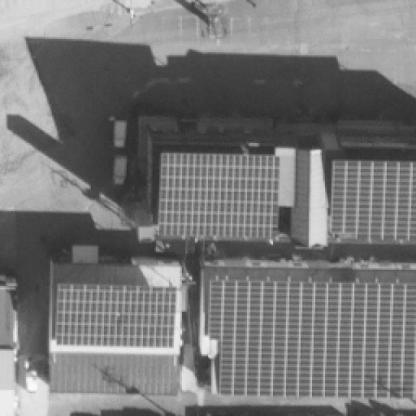solar-pv-panel: (209, 280, 416, 398), (155, 154, 279, 238), (55, 284, 177, 349), (331, 160, 416, 241)
